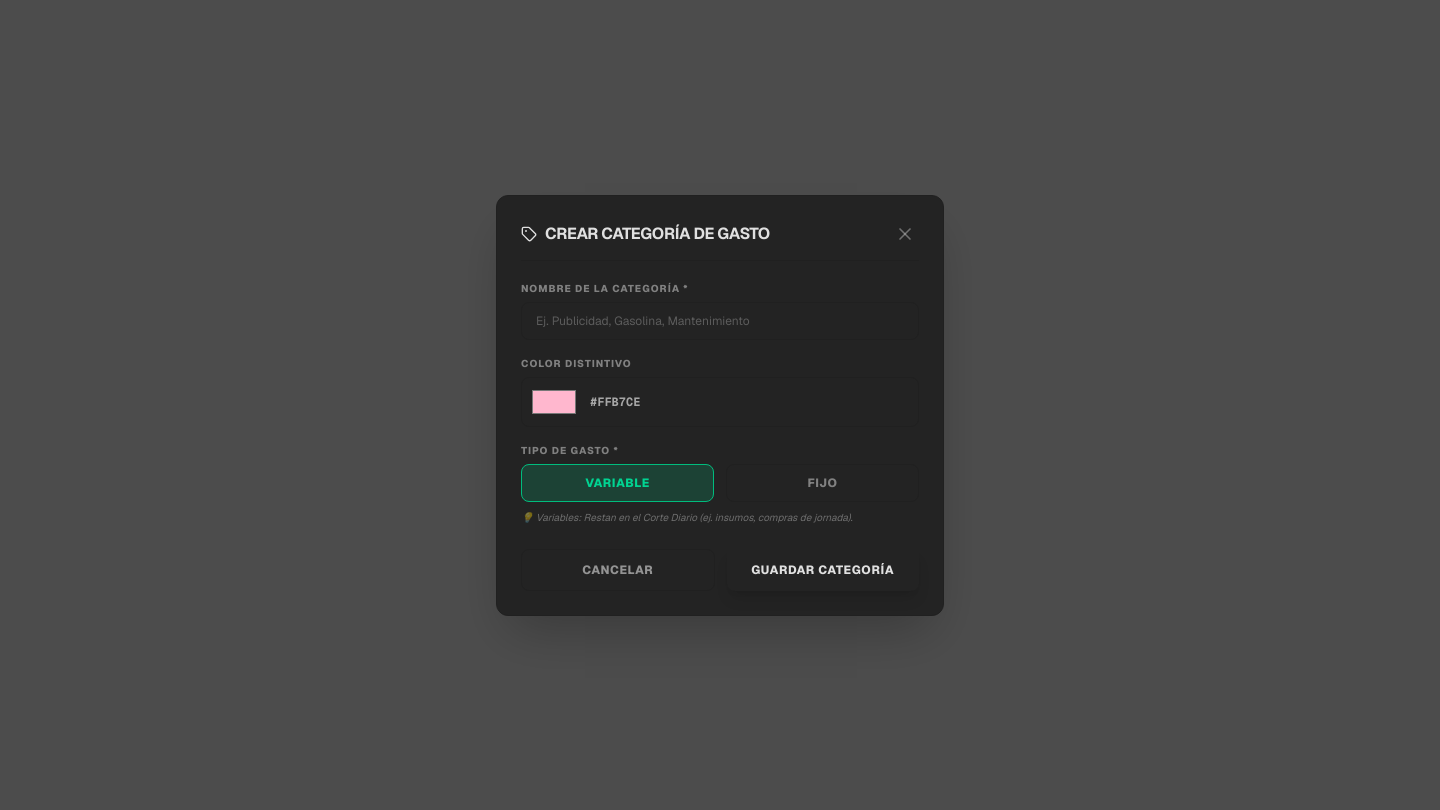
Test case: CategoryModal Component › displays error when category submission fails
The width and height of the screenshot is (1440, 810).
Step 1. Type "Insumos" into the field labelled "Nombre de la Categoría" → point(720, 320), box [521,302,919,340]
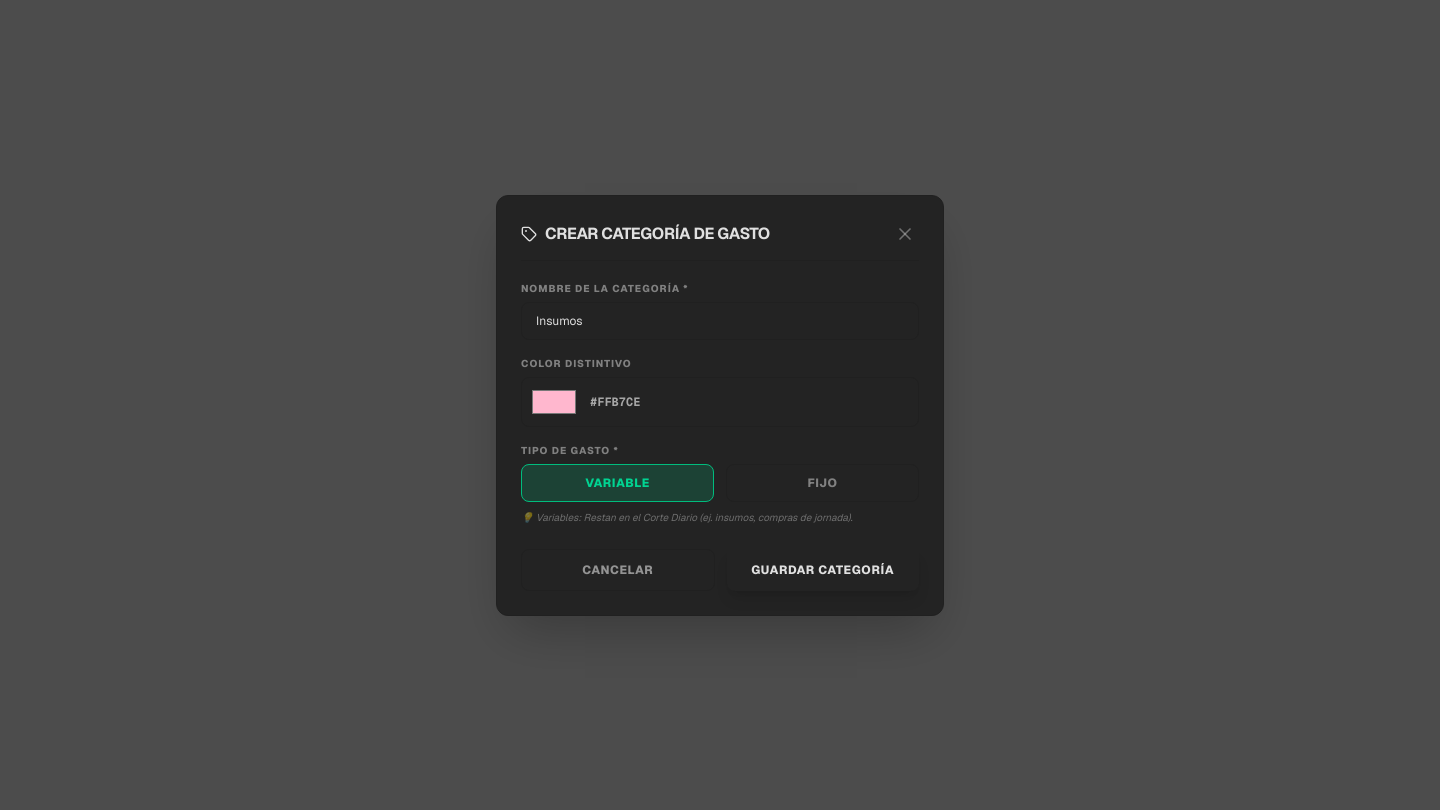
Step 2. Click the button "Guardar Categoría" → point(823, 570), box [726,548,919,590]
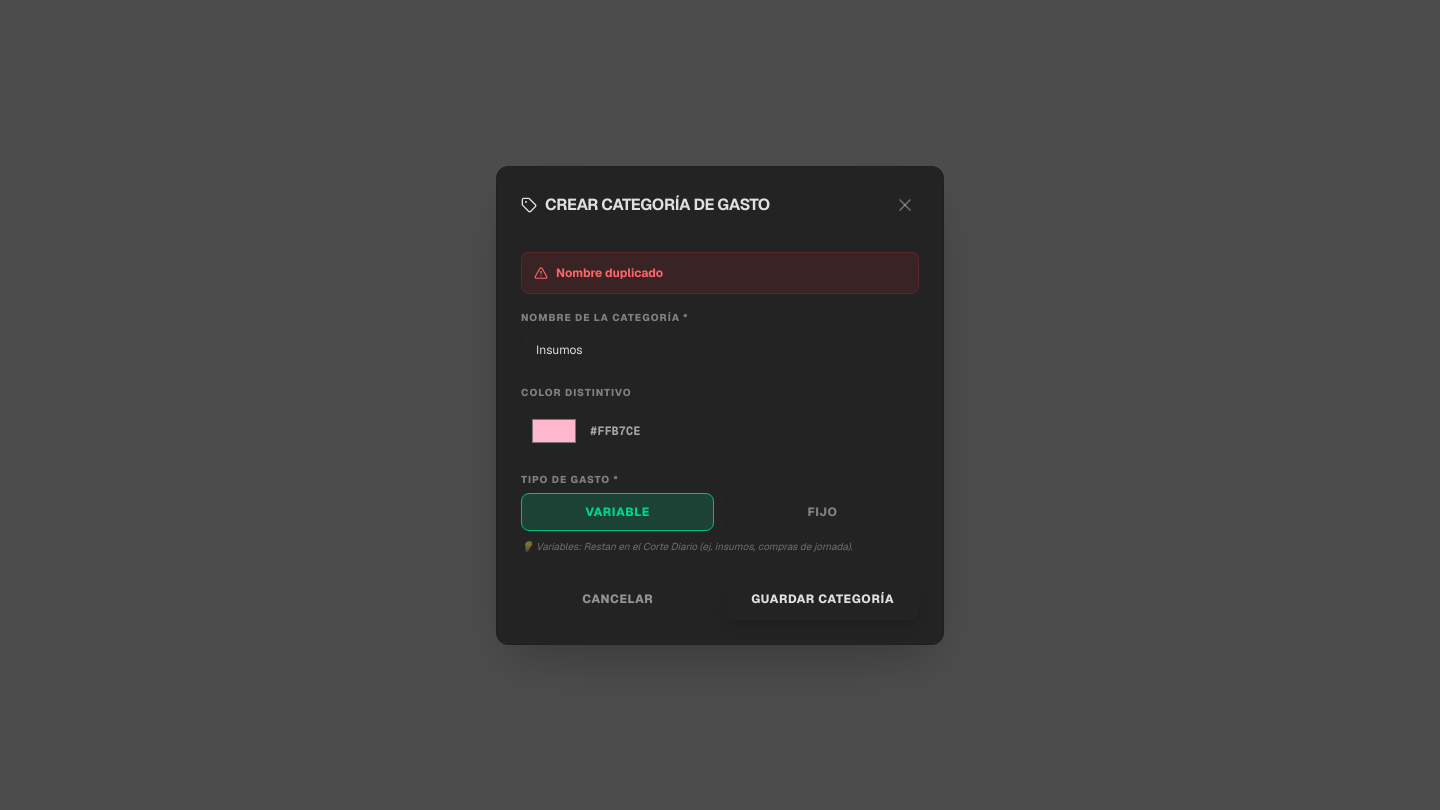
Now the text "Nombre duplicado" is shown, box [521,252,919,294]
